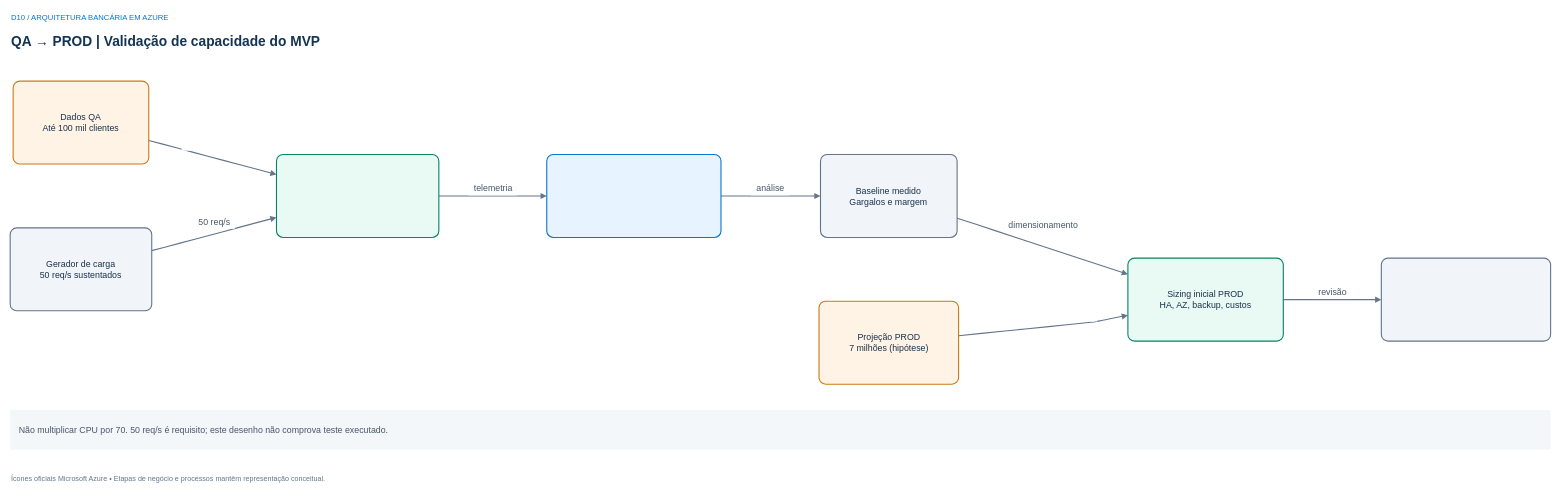
The diagram is 1560 pixels wide and 495 high, and some of its shapes have lost their labels. Here are the shapes that lost their labels. From the top down, the centre of each, then its label:
the point at 213,143: massa segura
the point at 357,196: QA / TEST Topologia representativa
the point at 633,196: Métricas CPU, RAM, p95/p99, IOPS
the point at 1043,314: armazenamento / índices
the point at 1465,299: Aceite técnico Teste real ainda pendente
